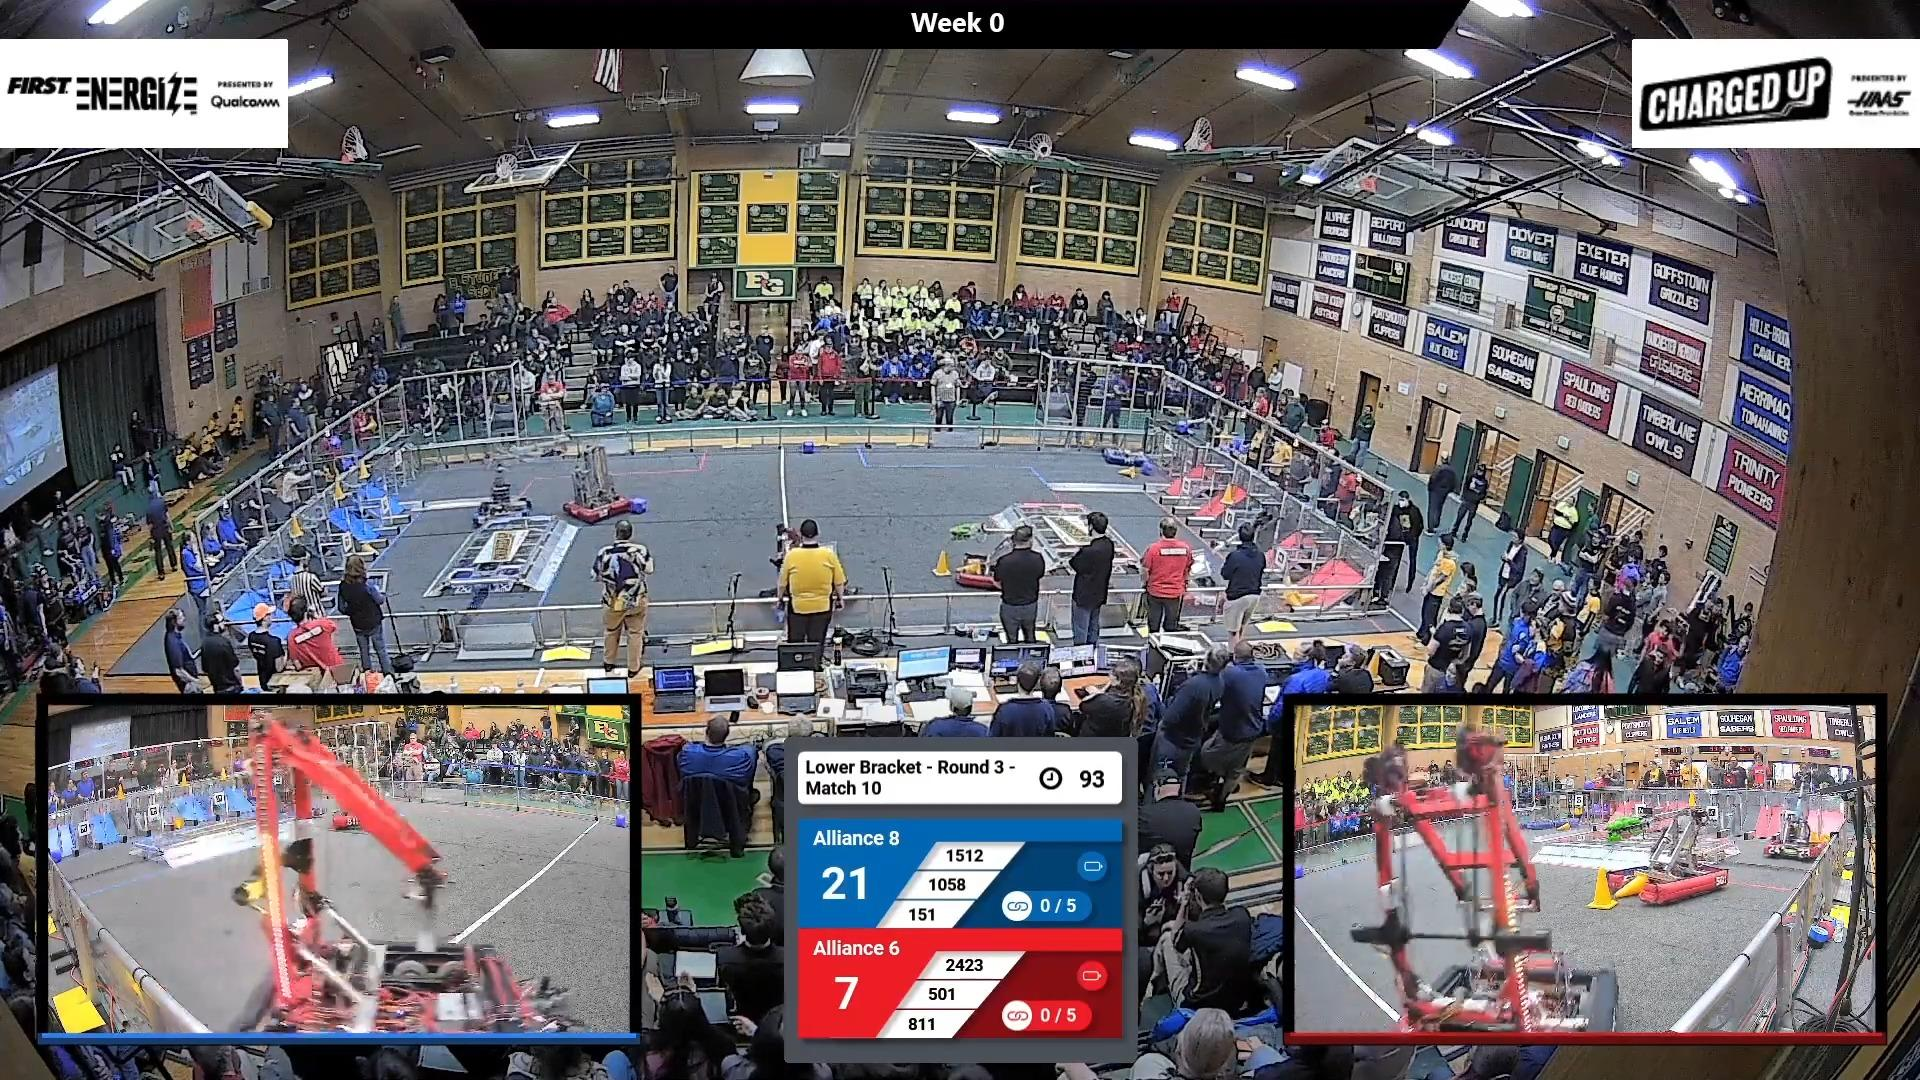robot: (756, 509, 860, 613), (556, 447, 632, 529), (1171, 529, 1240, 617), (468, 459, 534, 534), (949, 534, 1019, 596), (1100, 425, 1151, 467)
